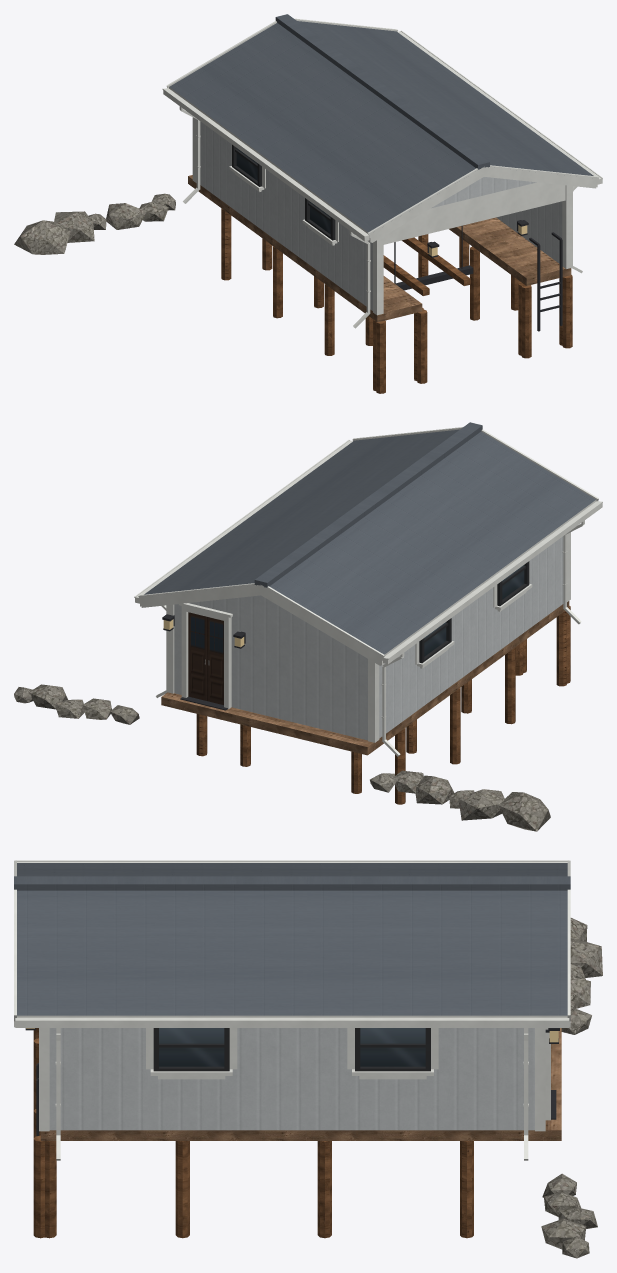
The model's file is tour_boathouse.fbx.
The picture shows the model from 3 angles, top to bottom: view 1: azimuth 30°, elevation 25°; view 2: azimuth 150°, elevation 25°; view 3: azimuth 270°, elevation 25°; orthographic projection. The views are drawn at different scales.
Visible parts, largest first — view 1: tour_boathouse_LOD0; view 2: tour_boathouse_LOD0; view 3: tour_boathouse_LOD0.
Part boxes in pixels (x1,y1,x2,y2): tour_boathouse_LOD0: (14,14,602,393); tour_boathouse_LOD0: (14,422,602,831); tour_boathouse_LOD0: (14,860,602,1258).
Size of what is drawn, in the model's own units: 13.29 by 5.45 by 9.95.
2 materials, 2 textured.
